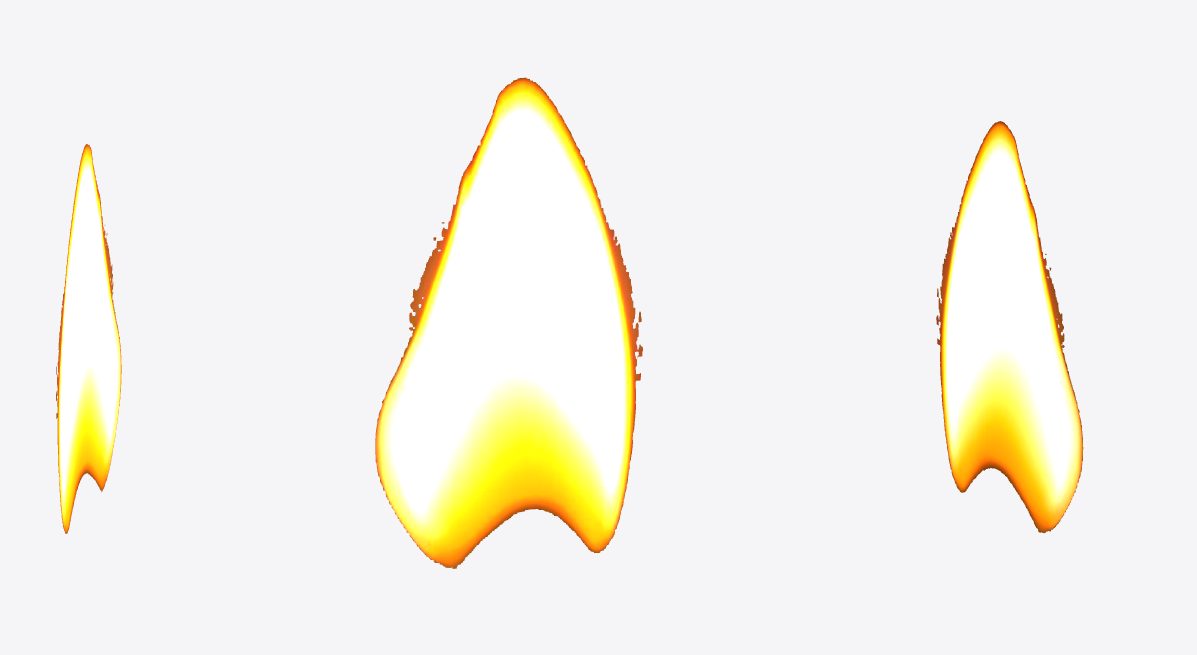
3 renders of one model, left to right at view 1: azimuth 30°, elevation 25°; view 2: azimuth 150°, elevation 25°; view 3: azimuth 270°, elevation 25°, orthographic. The views are drawn at different scales.
Visible parts, largest first — view 1: _69; view 2: _69; view 3: _69.
Boxes of the visible parts, x1,y1,x2,y2 form: _69: (56,144,121,533); _69: (375,77,642,568); _69: (936,121,1083,533).
Size of the model in its own units: 4.79 by 6.4 by 4.24.
